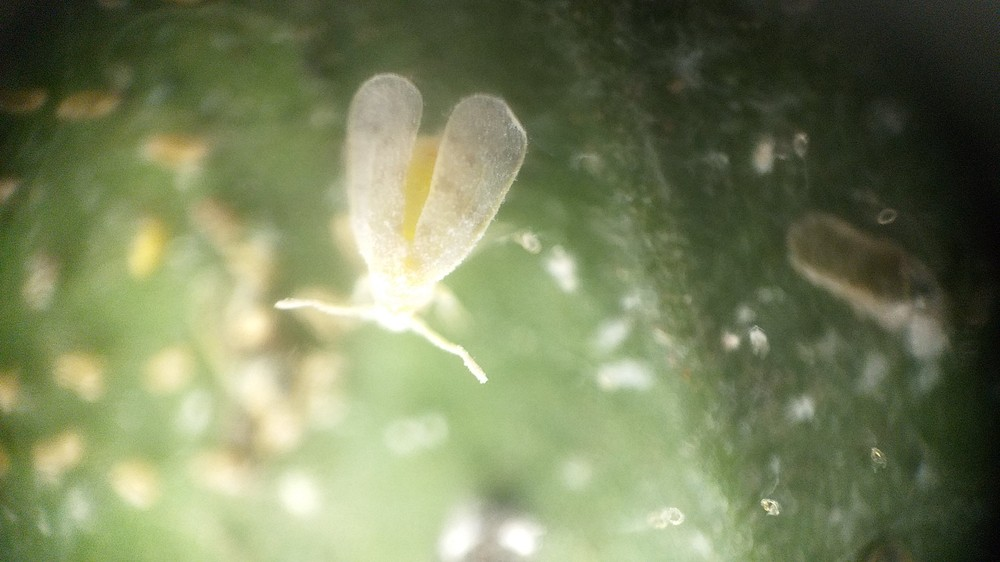Mosca Blanca: (264, 64, 562, 401)
